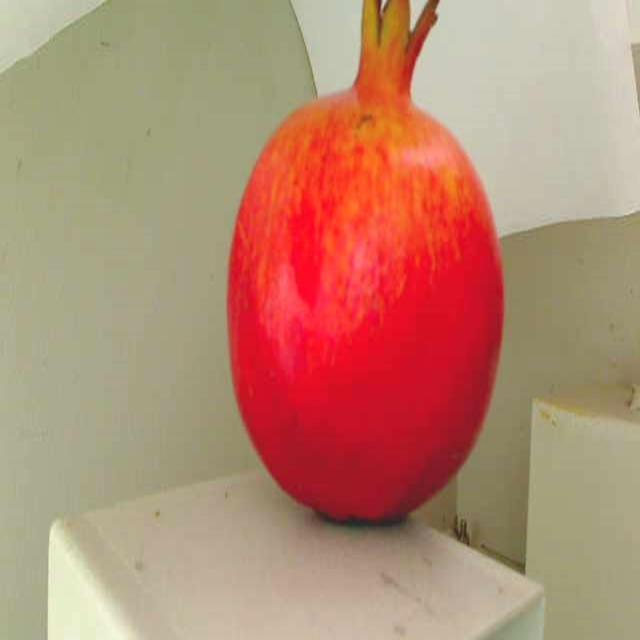pomegranate: (222, 0, 522, 544)
